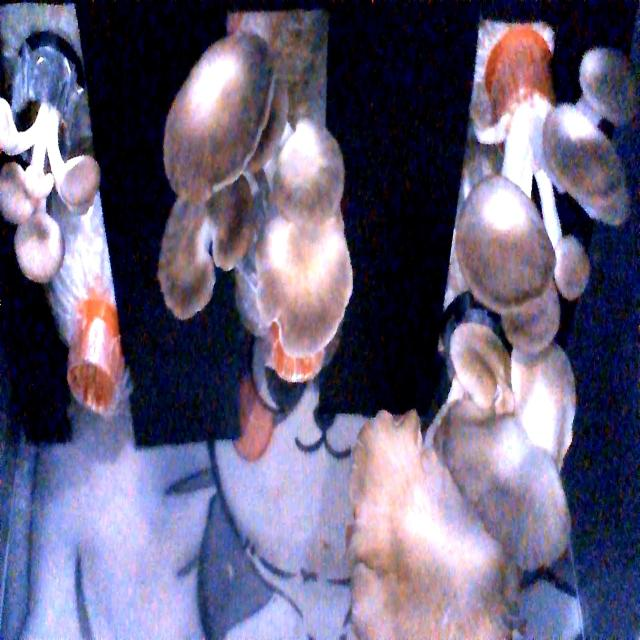big: (334, 333, 589, 640), (144, 64, 352, 388), (440, 17, 638, 346)
nfound: (62, 344, 122, 418)
small: (0, 71, 82, 323)
